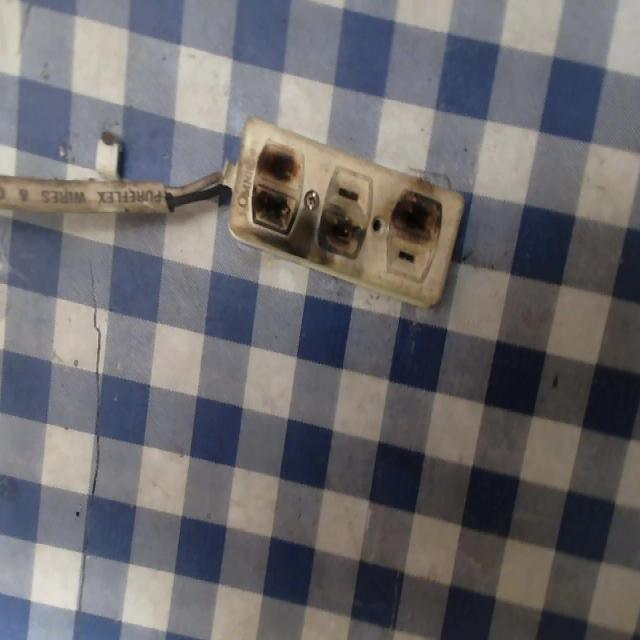-: (245, 118, 305, 250), (380, 168, 446, 244), (309, 208, 366, 272)
